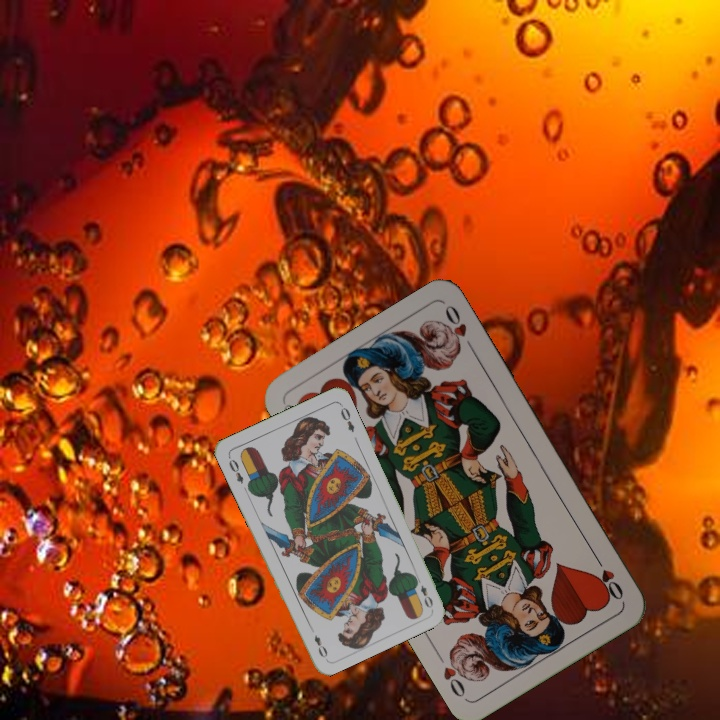EO: (411, 572, 436, 611), (224, 452, 246, 486)
HO: (589, 550, 626, 603)
